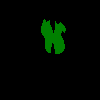camicia: (40, 18, 66, 54)
